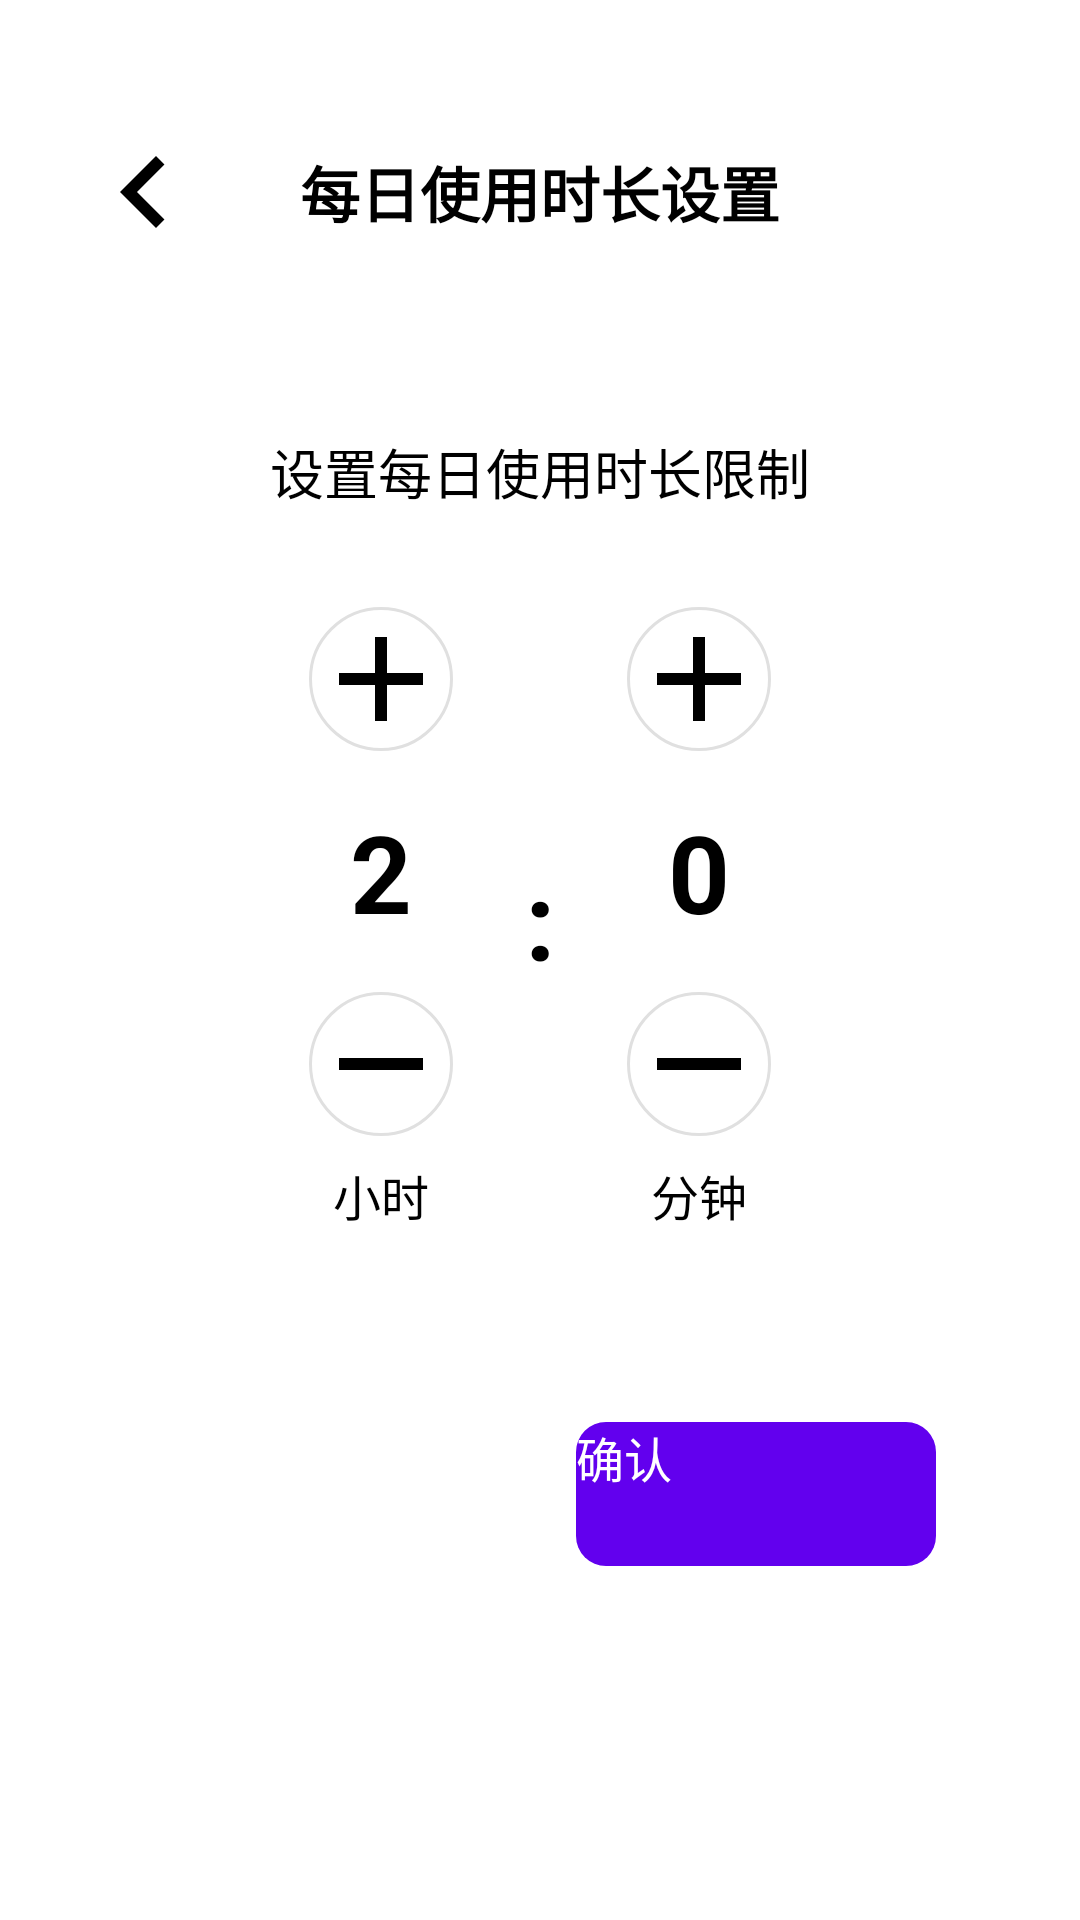

Point at icon controls on the screen. Image size 1080w x 1920h, points as (x,y).
back: (142,192)
minus: (381,1064), (699,1064)
plus: (381,679), (699,679)
